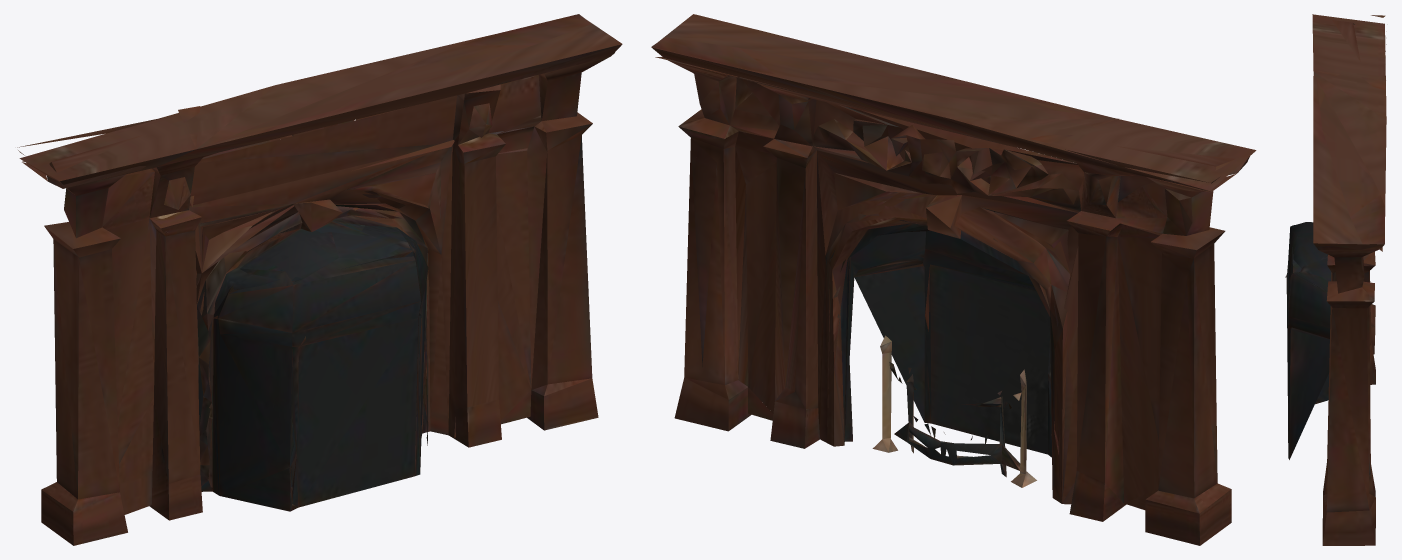
File: mj-fireplace-smoking-room.lod1.glb
The picture shows the model from 3 angles, left to right: view 1: azimuth 30°, elevation 25°; view 2: azimuth 150°, elevation 25°; view 3: azimuth 270°, elevation 25°; orthographic projection. The views are drawn at different scales.
Visible parts, largest first — view 1: mj-fireplace-smoking-room; view 2: mj-fireplace-smoking-room; view 3: mj-fireplace-smoking-room.
Part boxes in pixels (left/top/right/bottom): mj-fireplace-smoking-room: left=17, top=14, right=622, bottom=545; mj-fireplace-smoking-room: left=651, top=14, right=1256, bottom=545; mj-fireplace-smoking-room: left=1285, top=14, right=1386, bottom=545.
Size of the model in its own units: 2.2 by 1.4 by 0.417.
Materials: 1 (1 with a texture image).
